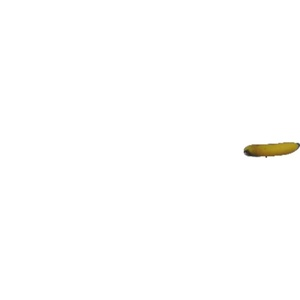banana: (242, 139, 297, 160)
